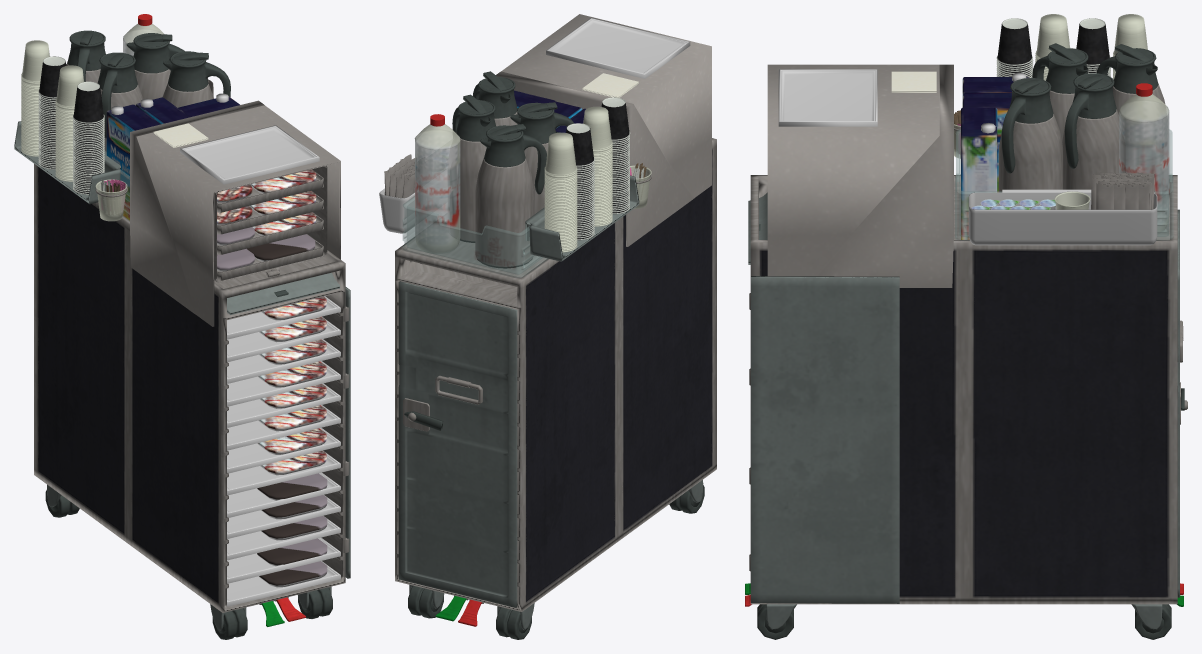
File: cart.glb
3 renders of one model, left to right at view 1: azimuth 30°, elevation 25°; view 2: azimuth 150°, elevation 25°; view 3: azimuth 270°, elevation 25°, orthographic. The views are drawn at different scales.
Parts seen in each view (by area): view 1: Cart_low, OvenCover_low, FlaskBody_low (×4), MelamineTray_low, JuiceBody_low, IceDrawer_low, PaperCup_low (×2), MelamineTray_low2, MelamineTray_low8, MelamineTray_low13, MelamineTray_low6, Door_low (+44 smaller); view 2: Cart_low, Door_low1, OvenCover_low, FlaskBody_low (×4), Water_low, PlasticDrawer_low, MelamineTray_low, CupHolder_low, PaperCup_low (×2), MiniExtension_low, PlasticGlass_low4, PlasticGlass_low2 (+7 smaller); view 3: Cart_low, Door_low, OvenCover_low, FlaskBody_low (×4), MiniExtension_low, MelamineTray_low, Water_low, JuiceBody_low2, PaperCup_low (×2), PlasticDrawer_low, Door_low1, JuiceBody_low1 (+7 smaller).
Part boxes in pixels (x1,y1,x2,y2): Cart_low: (34,164,345,612); OvenCover_low: (130,100,340,326); FlaskBody_low (×4): (66,30,230,151); MelamineTray_low: (180,125,319,184); JuiceBody_low: (106,104,160,220); IceDrawer_low: (227,272,339,314); PaperCup_low (×2): (38,56,104,123); MelamineTray_low2: (227,317,340,361); MelamineTray_low8: (227,451,340,495); MelamineTray_low13: (227,561,340,606); MelamineTray_low6: (227,405,340,450); Door_low: (345,287,350,578); Cart_low: (395,138,716,611); Door_low1: (398,281,517,607); OvenCover_low: (496,14,711,246); FlaskBody_low (×4): (450,77,574,268); Water_low: (414,114,460,253); PlasticDrawer_low: (402,196,547,277); MelamineTray_low: (546,17,690,78); CupHolder_low: (525,175,639,261); PaperCup_low (×2): (566,97,630,166); MiniExtension_low: (379,188,414,233); PlasticGlass_low4: (544,132,577,175); PlasticGlass_low2: (583,106,612,149); Cart_low: (750,175,1177,604); Door_low: (751,276,899,603); OvenCover_low: (767,64,953,287); FlaskBody_low (×4): (998,48,1165,192); MiniExtension_low: (968,189,1157,245); MelamineTray_low: (778,69,877,126); Water_low: (1119,83,1169,233); JuiceBody_low2: (961,107,997,239); PaperCup_low (×2): (996,18,1110,65); PlasticDrawer_low: (955,129,1173,240); Door_low1: (1177,209,1179,597); JuiceBody_low1: (962,93,1011,192).
Bounding box in the file's own units: 0.4427 × 1.14 × 0.8309.
16 materials, 16 textured.
